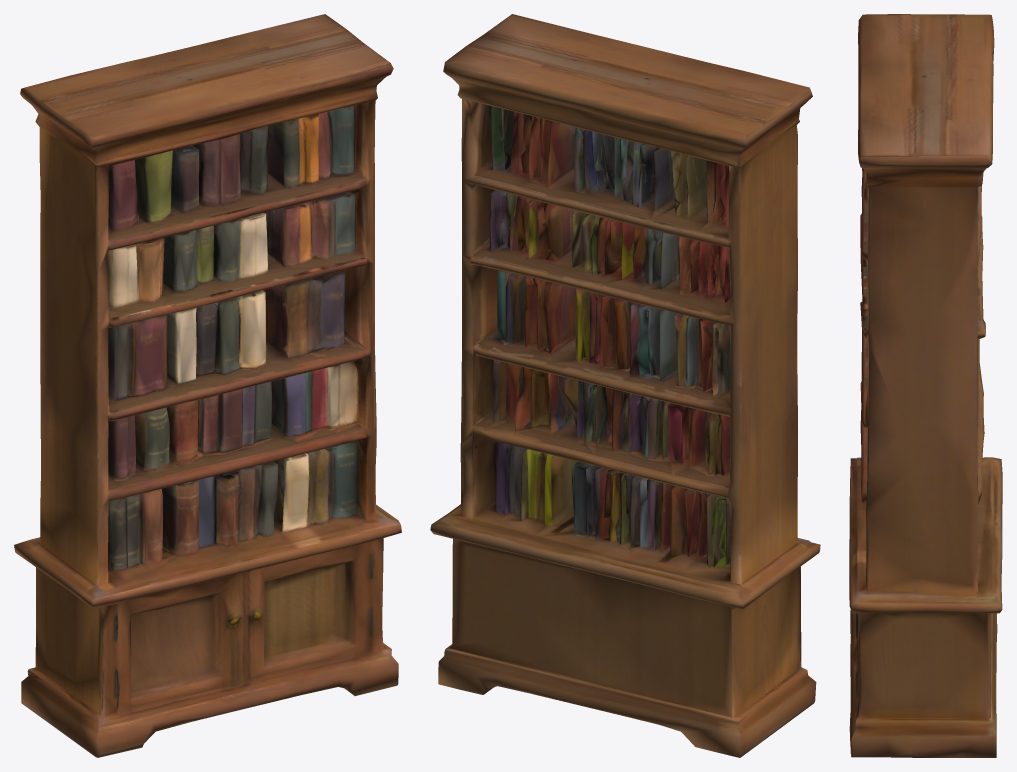
Rendered from meshy_model_1758341144.46559.glb.
3 views of the same model, side by side, from view 1: azimuth 30°, elevation 25°; view 2: azimuth 150°, elevation 25°; view 3: azimuth 270°, elevation 25° (orthographic). The views are drawn at different scales.
Size of the model in its own units: 1.06 by 2 by 0.4632.
Materials: 1 (1 with a texture image).
